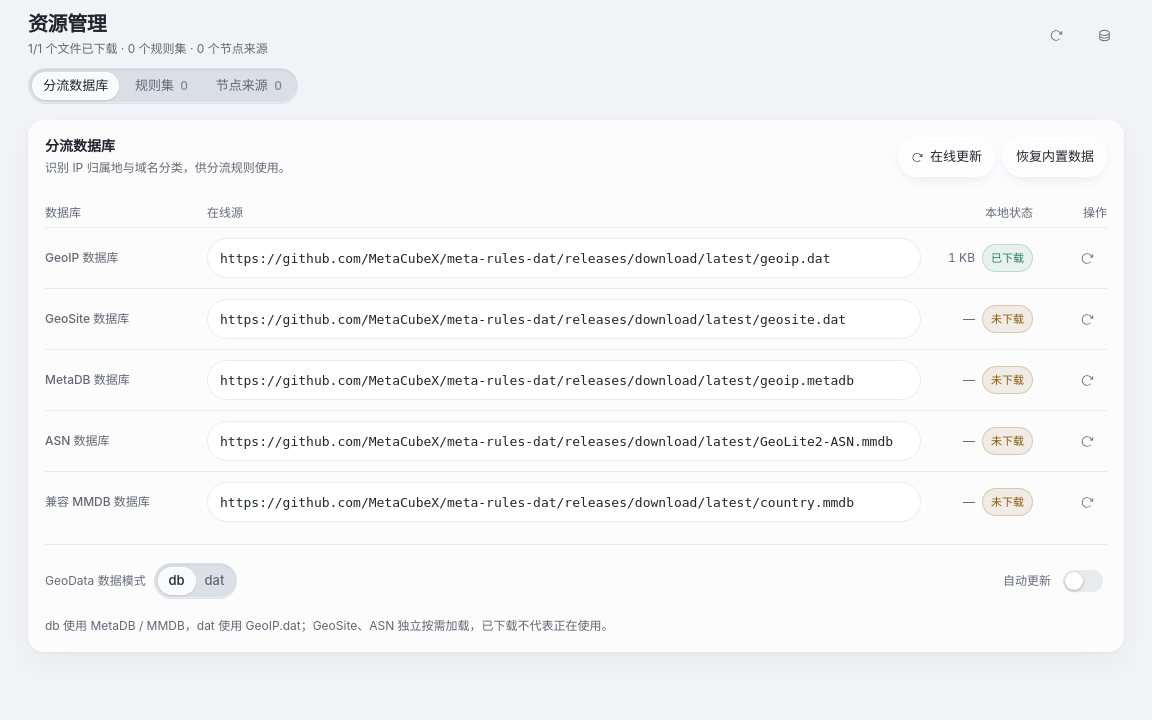
Test: 内核返回 null 提供者映射时表示空列表，不显示读取失败
Click the tab "规则集 0": (163, 86) [119,72,207,100]
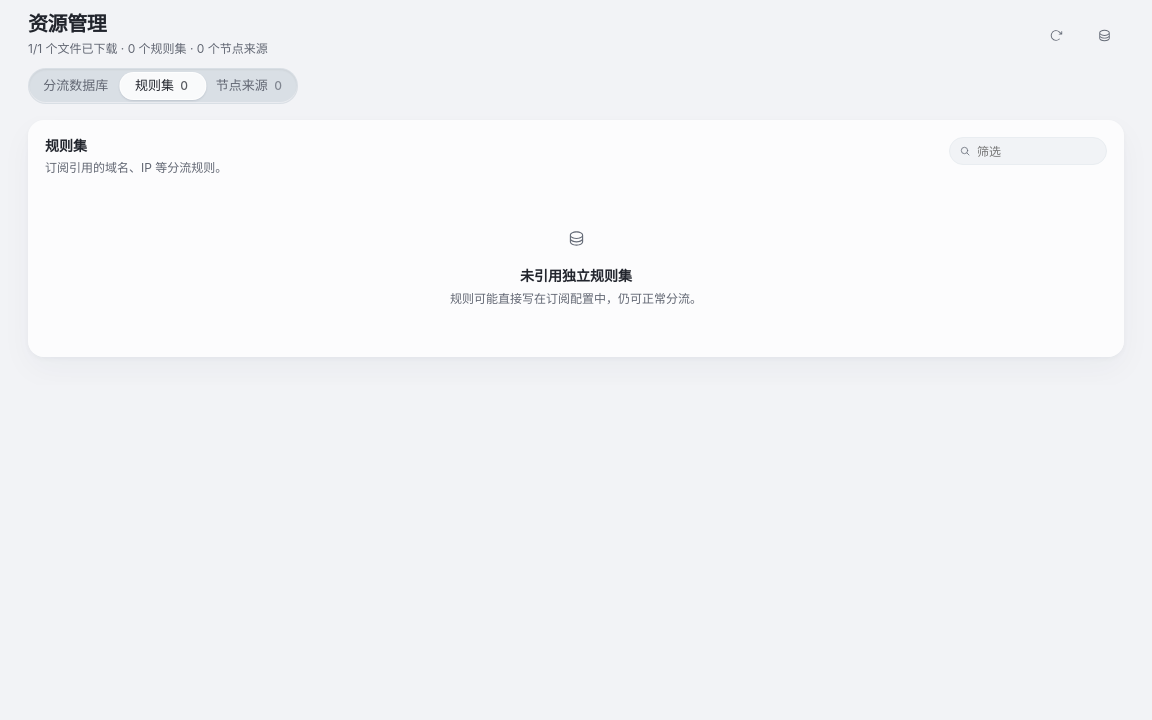
Check: the text "未引用独立规则集" is shown, box [520,267,632,286]
